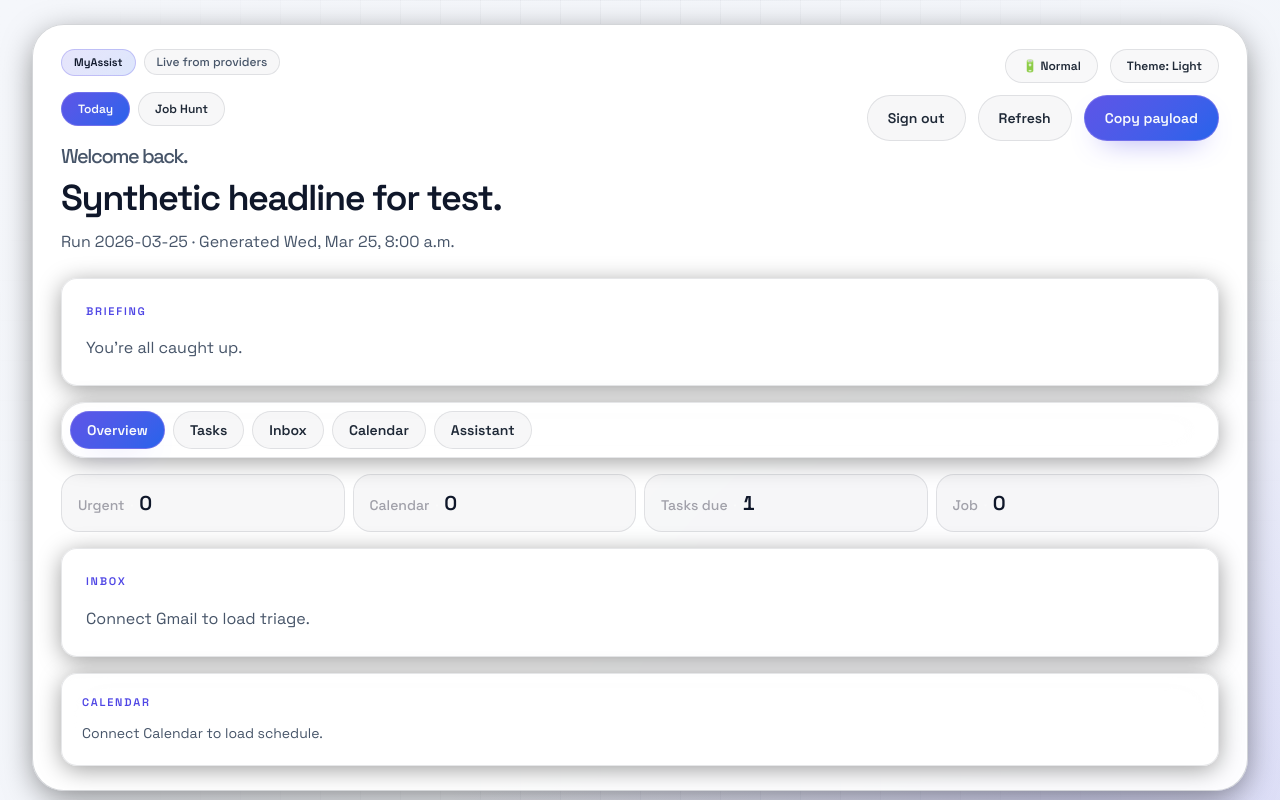
Scenario: Dashboard › Inbox shows recent mail when nothing qualifies as priority
Click the button "Inbox" at (288, 430), box [252,411,324,449]
(page scrolled)
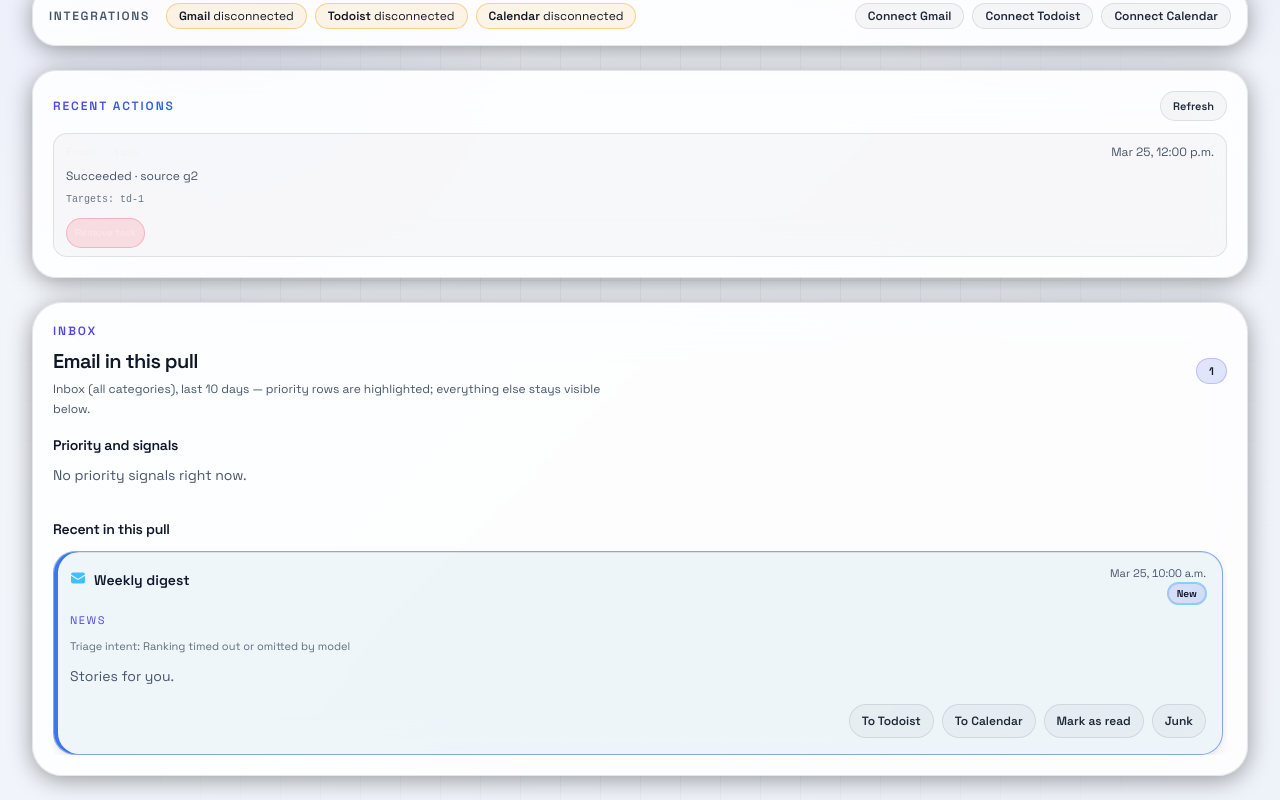
Now the text "No priority signals right now." is shown, box [53,466,247,484]
Now the text "Weekly digest" is shown, box [94,568,190,592]
